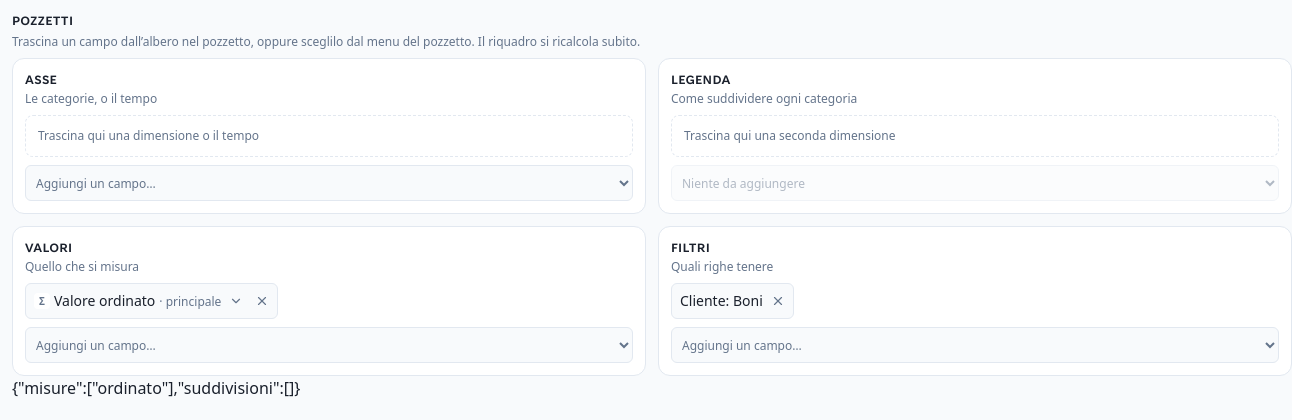
it: Pozzetti: togliere e riordinare › togliere un filtro
Click the button named "Togli il filtro su Cliente". click: click(778, 301)
box: top-left (767, 290), bottom-right (789, 312)
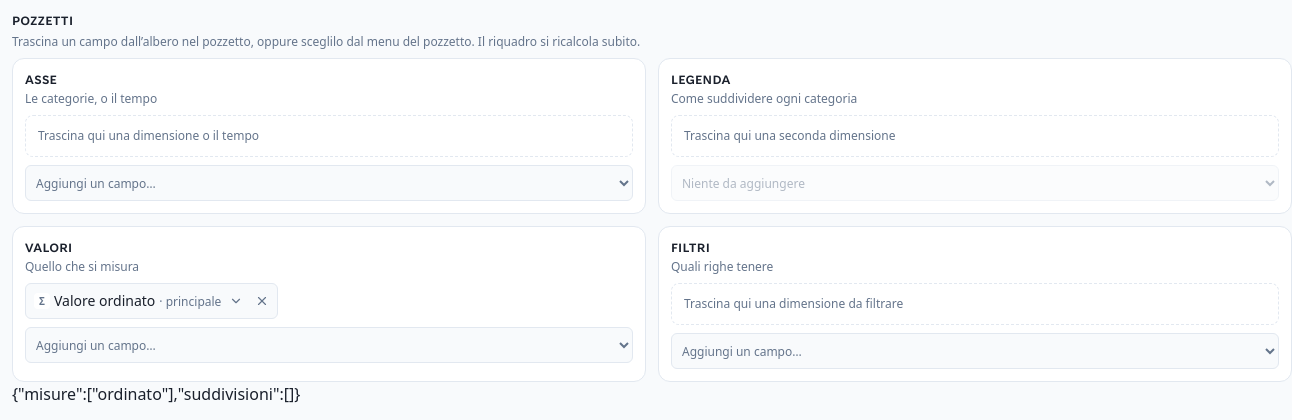
Expected: the text "Cliente:" is gone
